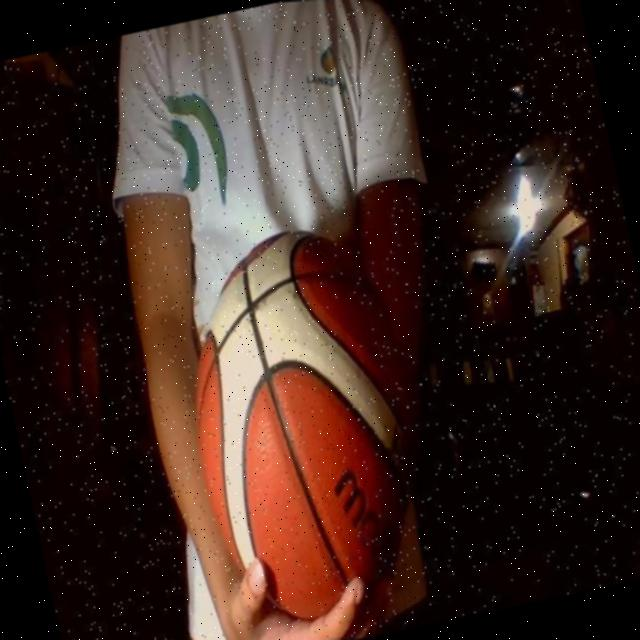ball: (132, 192, 477, 640)
